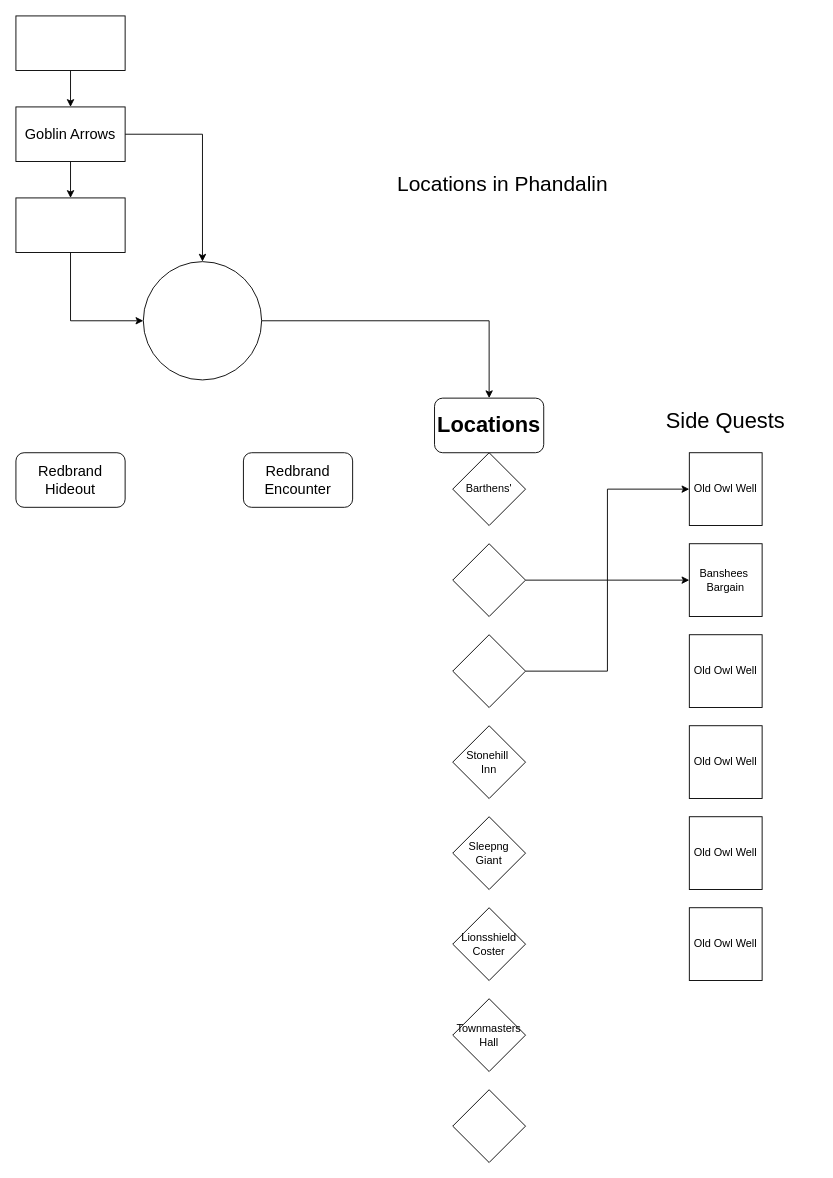
Image size: 833x1178. Some labels were removed from this diagram. The centre of each missing label's shape, as x and y in pixels:
Cragmaw Hide Out: (70,225)
Edermath Orchard: (489,580)
Meeting in tavern: (70,43)
Phandalin: (202,320)
Shrine of Luck: (489,671)
